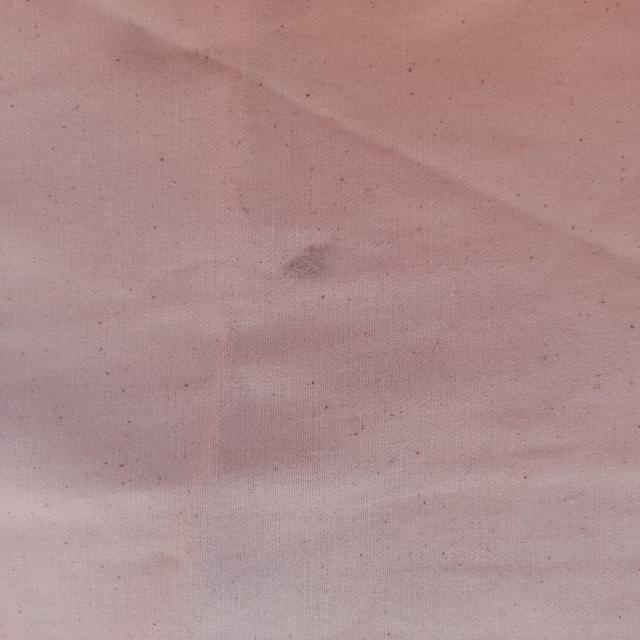taaaches: (266, 232, 345, 288), (228, 190, 262, 218)
